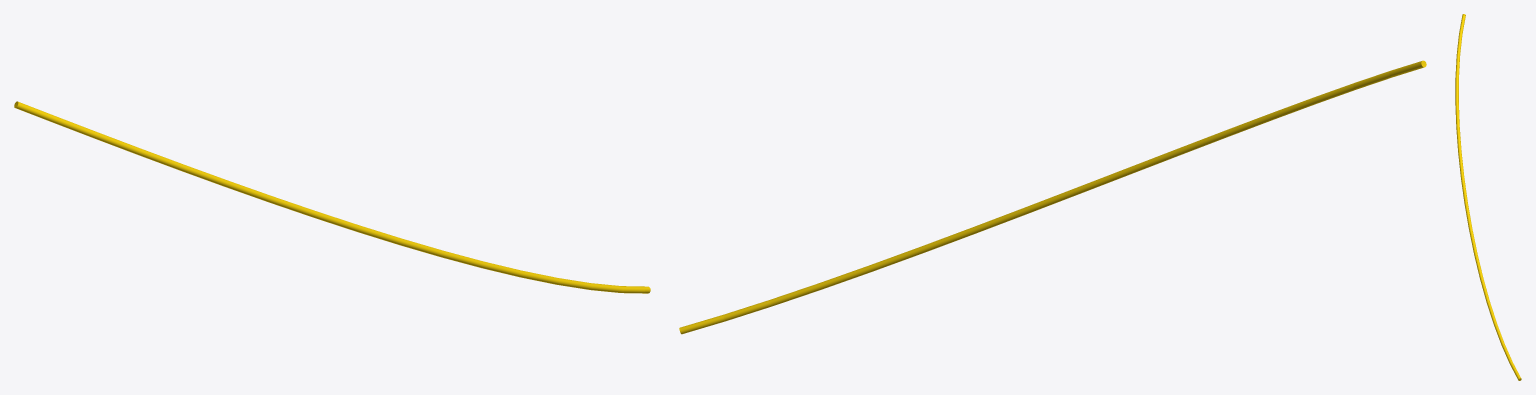
File: Event_421127236_track_6.fbx
3 views of the same model, side by side, from view 1: azimuth 30°, elevation 25°; view 2: azimuth 150°, elevation 25°; view 3: azimuth 270°, elevation 25° (orthographic). The views are drawn at different scales.
Parts seen in each view (by area): view 1: Model; view 2: Model; view 3: Model.
Boxes of the visible parts, bbox=[...] form: Model: bbox=[14, 101, 650, 293]; Model: bbox=[679, 60, 1426, 334]; Model: bbox=[1455, 14, 1521, 380].
Bounding box in the file's own units: 4.53 × 2.5 × 0.7528.
